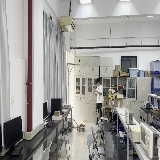fire: (80, 112, 84, 126)
